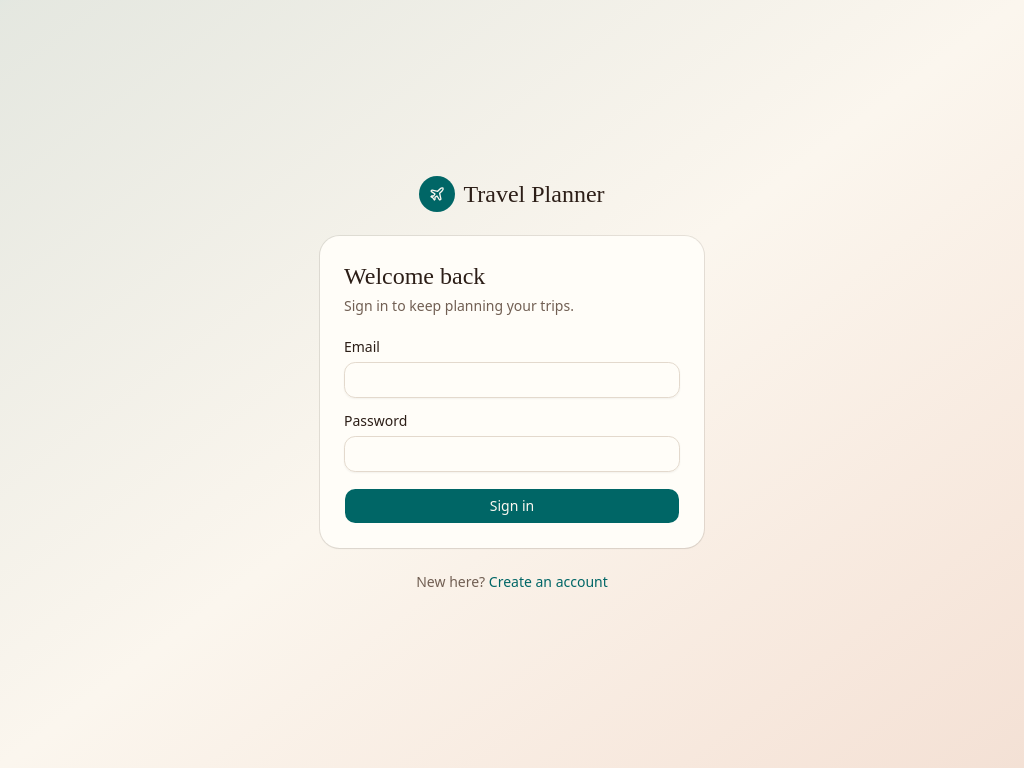
LoginPage › shows the server error on bad credentials
The width and height of the screenshot is (1024, 768).
Step 1. Type "ada@example.com" into the field labelled "Email" → (512, 380), box [344,362,680,398]
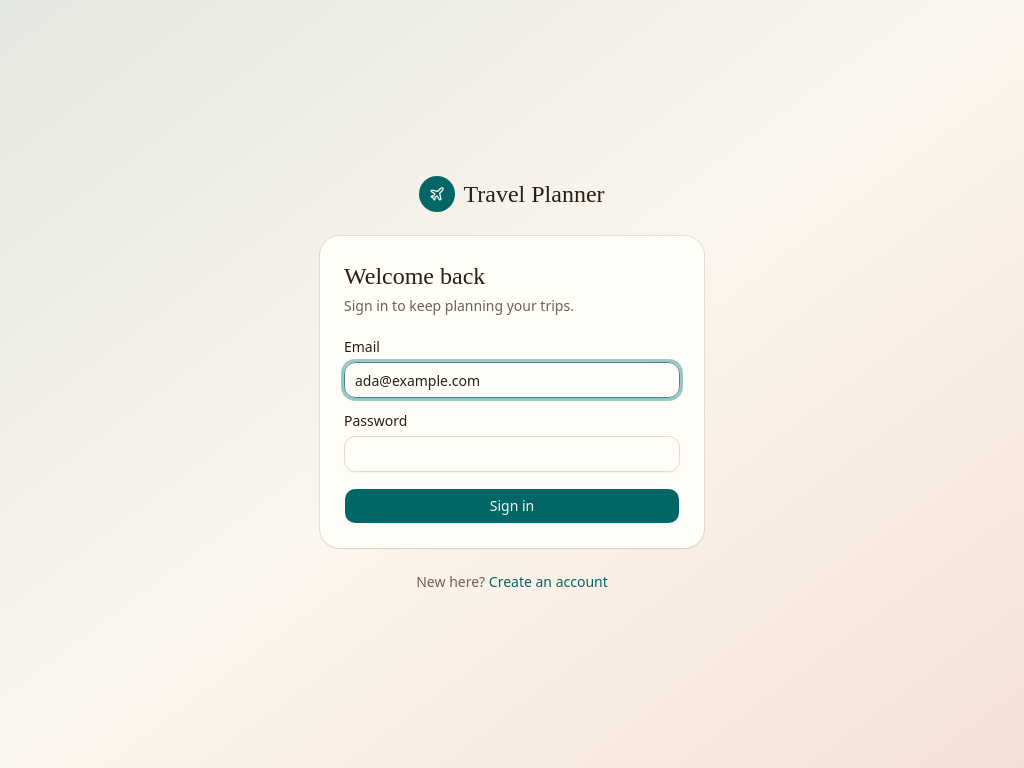
Step 2. Type "correct horse battery" into the password field labelled "Password" → (512, 454), box [344,436,680,472]
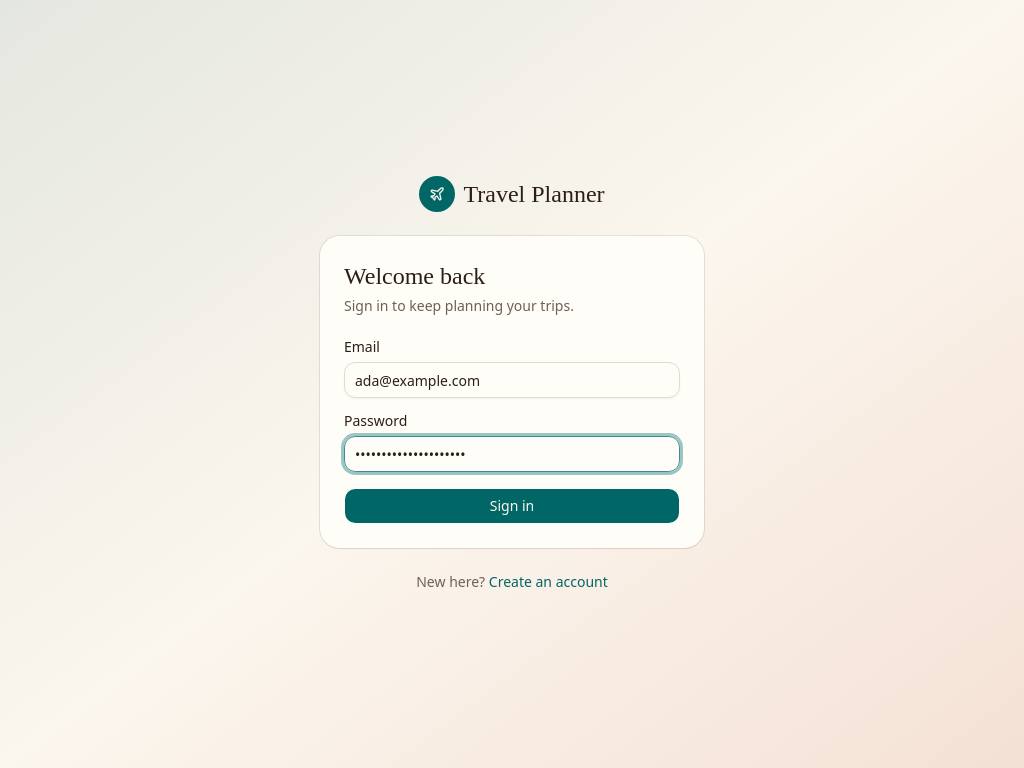
Step 3. Click the button "Sign in" → click(512, 506), box [344,488,680,524]
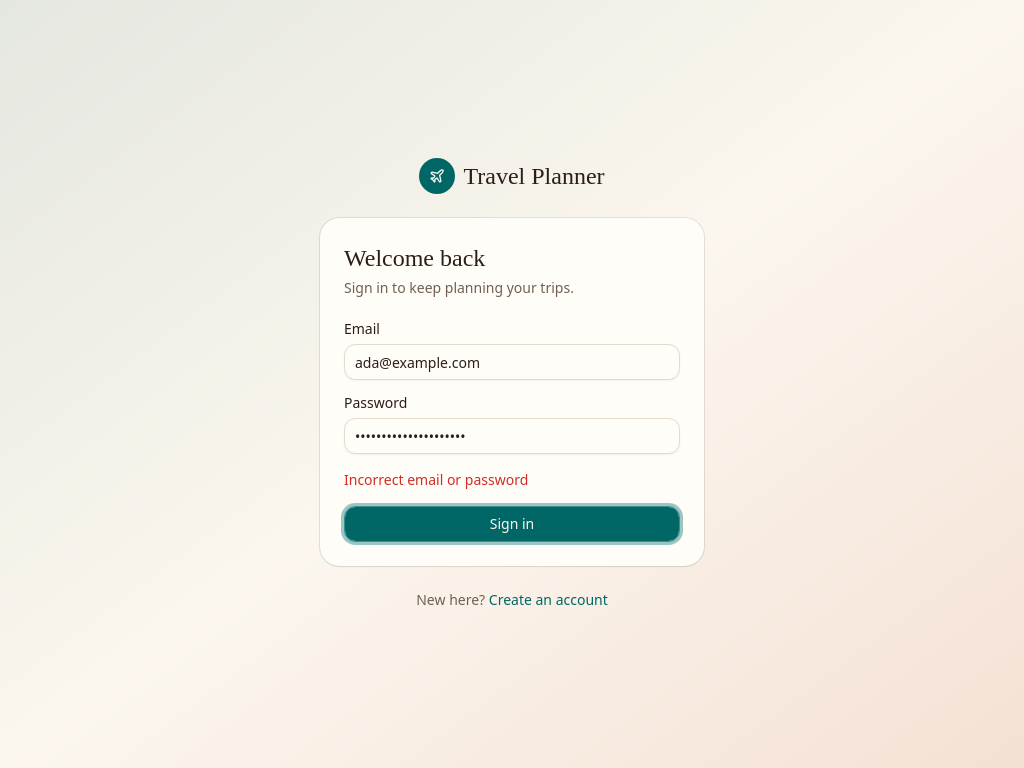
Now the message reads "Incorrect email or password", box [344,470,528,489]
